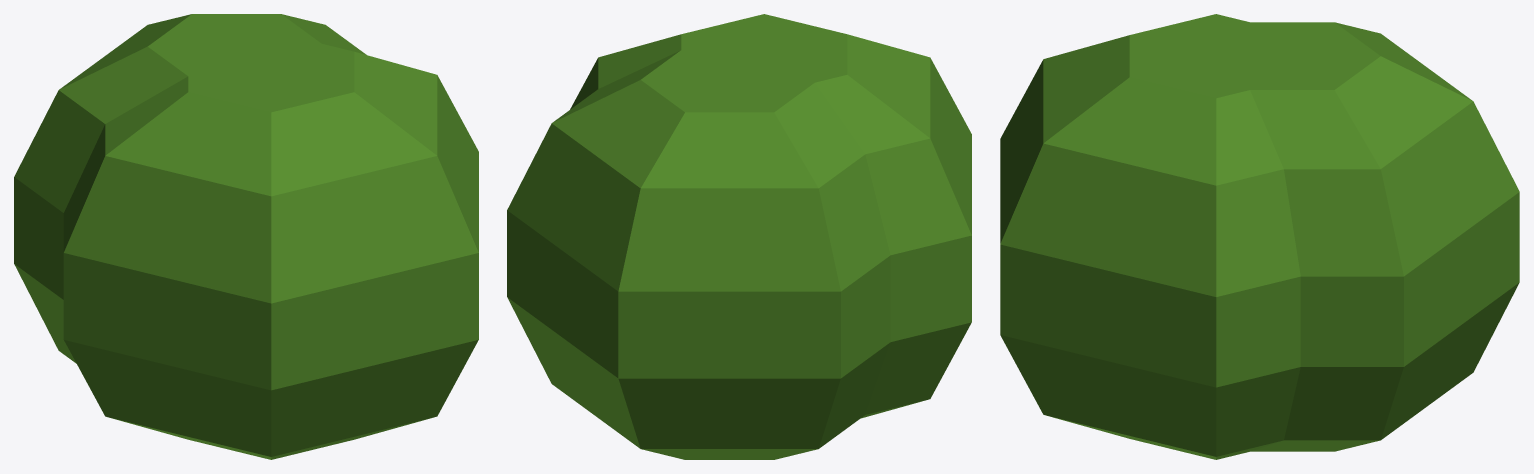
File: Hilly_Prop_Bush_3.glb
3 views of the same model, side by side, from view 1: azimuth 30°, elevation 25°; view 2: azimuth 150°, elevation 25°; view 3: azimuth 270°, elevation 25° (orthographic). The views are drawn at different scales.
Visible parts, largest first — view 1: Hilly_Prop_Bush_3; view 2: Hilly_Prop_Bush_3; view 3: Hilly_Prop_Bush_3.
Boxes of the visible parts, x1=… form: Hilly_Prop_Bush_3: x1=14, y1=14, x2=478, y2=459; Hilly_Prop_Bush_3: x1=507, y1=14, x2=971, y2=459; Hilly_Prop_Bush_3: x1=1000, y1=14, x2=1519, y2=459.
Size of the model in its own units: 1 by 0.8 by 1.04.
